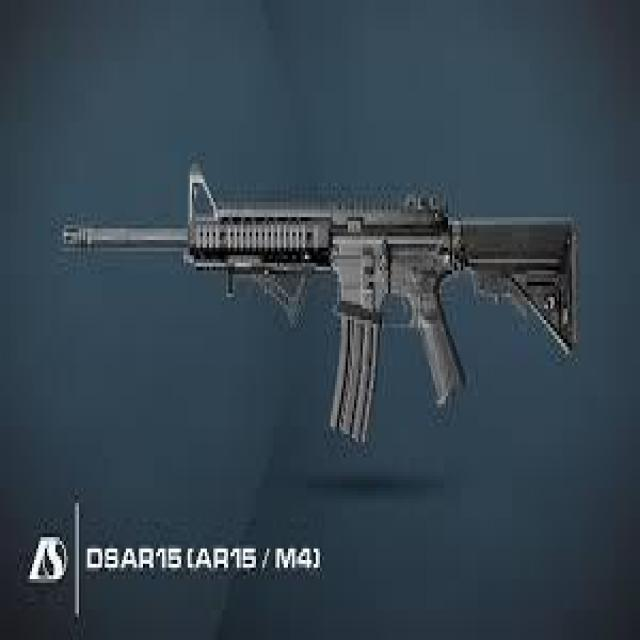weapon: (62, 158, 580, 452)
